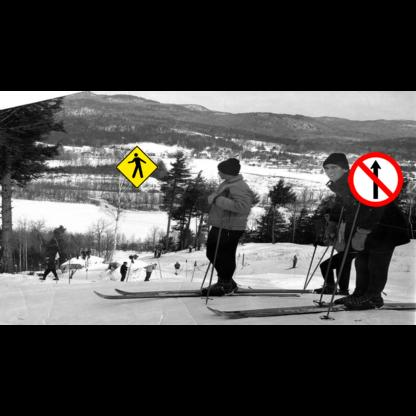A-32a: (115, 146, 158, 189)
R-3: (348, 152, 403, 207)
